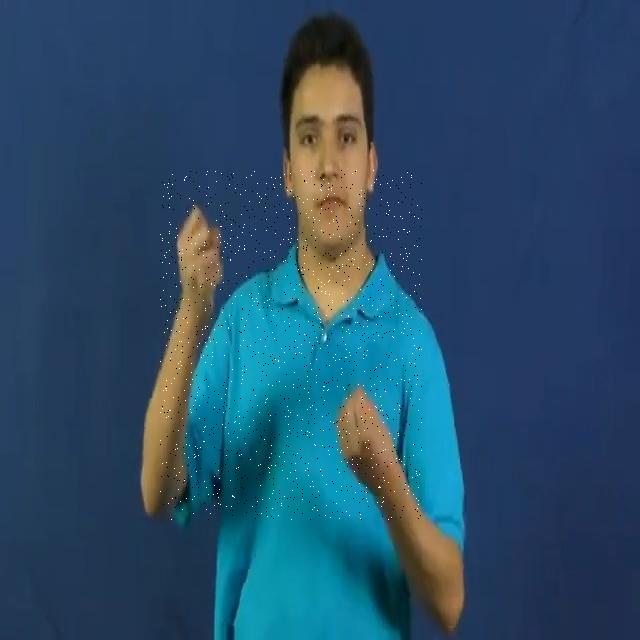drive: (160, 170, 422, 520)
